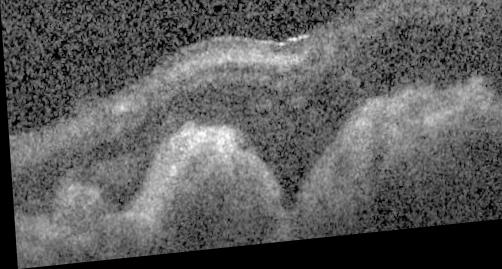subretinal_hyperreflective_material: (122, 95, 502, 223)
